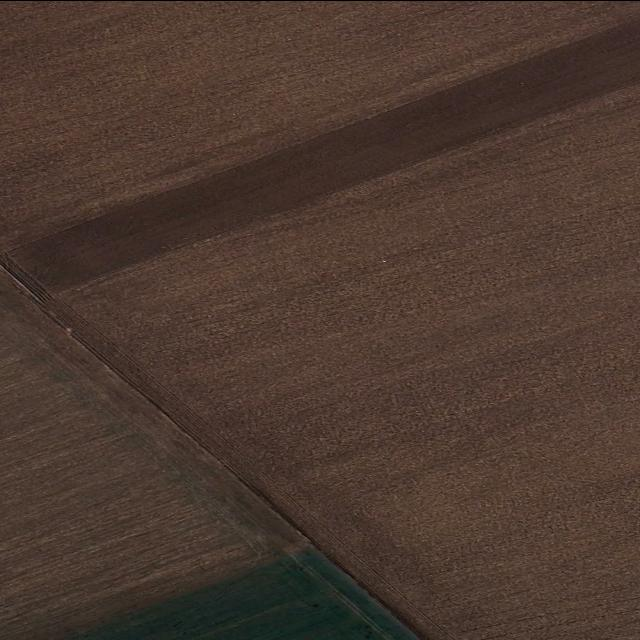bare-soil: (0, 0, 639, 640)
grass: (40, 541, 427, 640)
